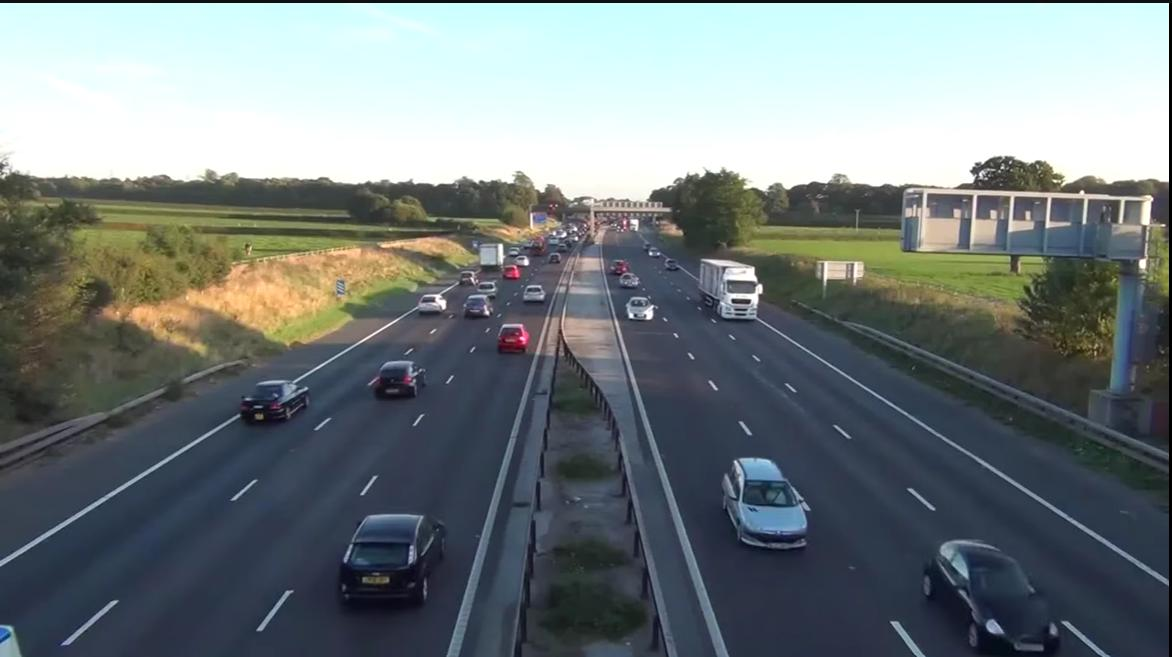car: (683, 429, 843, 595)
truck: (689, 240, 839, 366), (474, 232, 519, 283)
